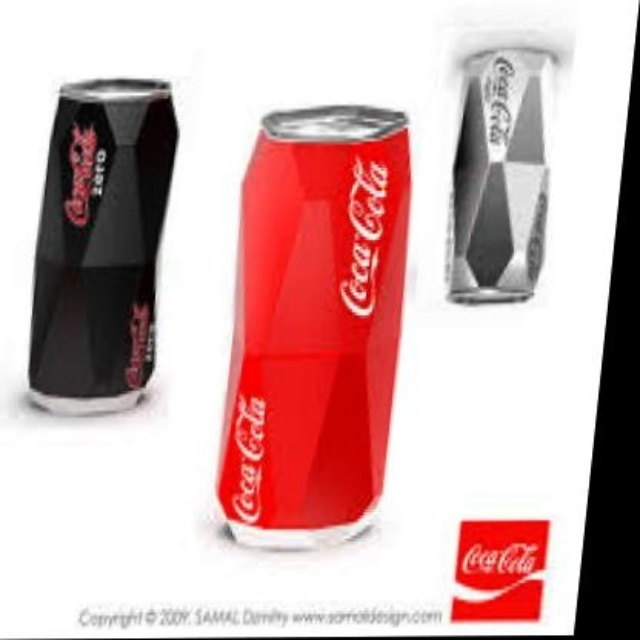trash: (217, 106, 409, 546), (29, 78, 175, 414), (451, 49, 549, 302)
